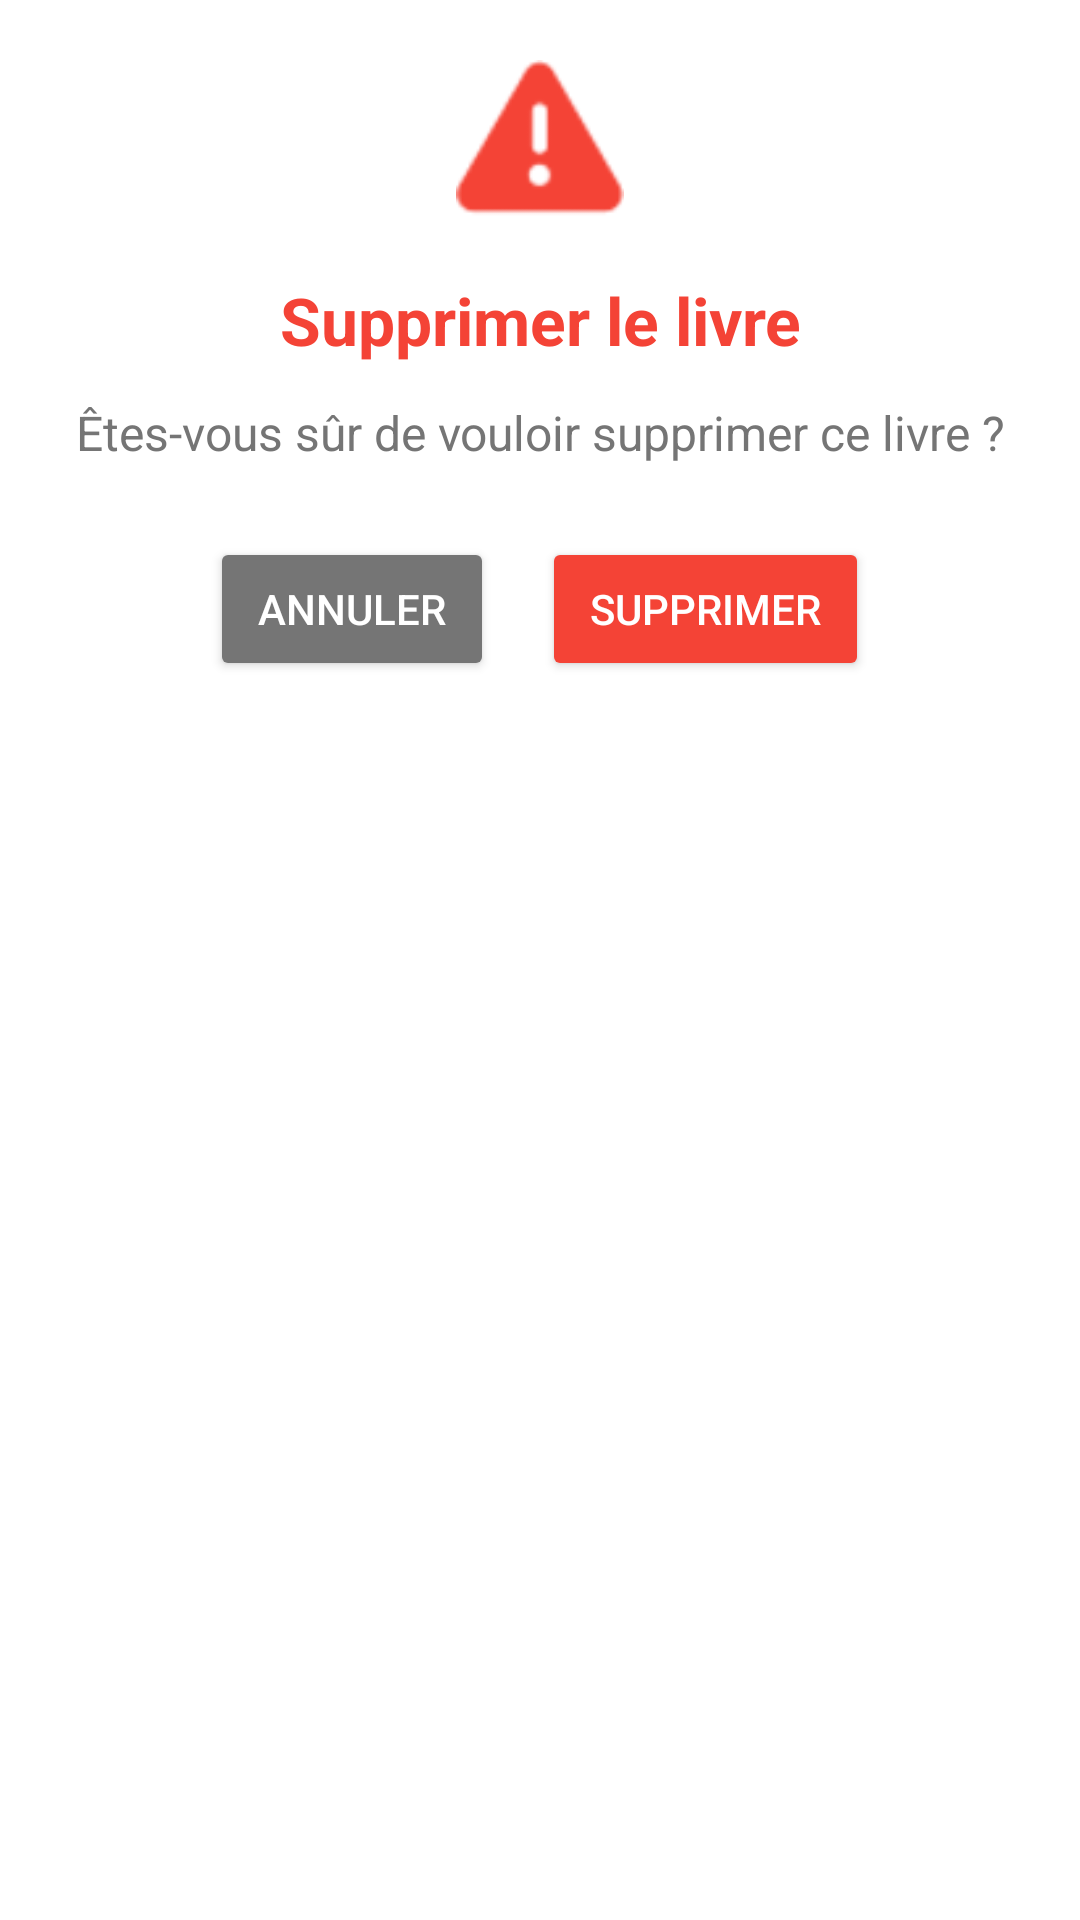

Named icons in this screenshot (1080 × 1920) and their bounding boxes, (x1, y1, x2, y2):
alert: (456, 60, 624, 213)
